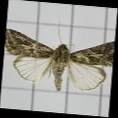Spodoptera litura: (4, 21, 113, 91)
